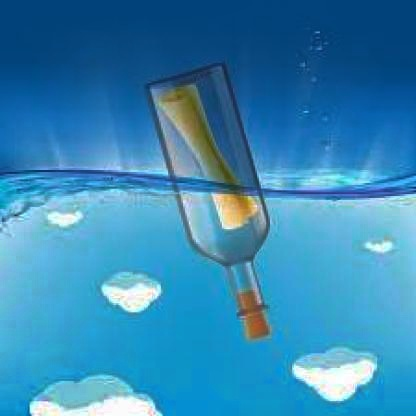gbottle: (146, 63, 279, 340)
